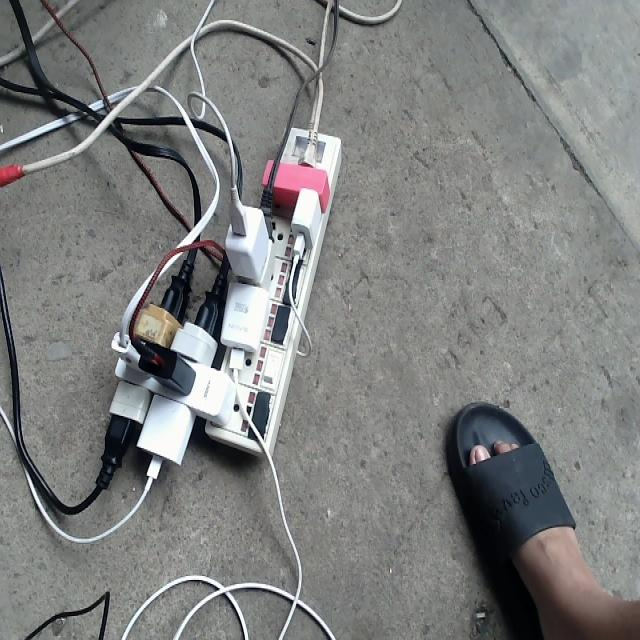-: (98, 124, 339, 499)
